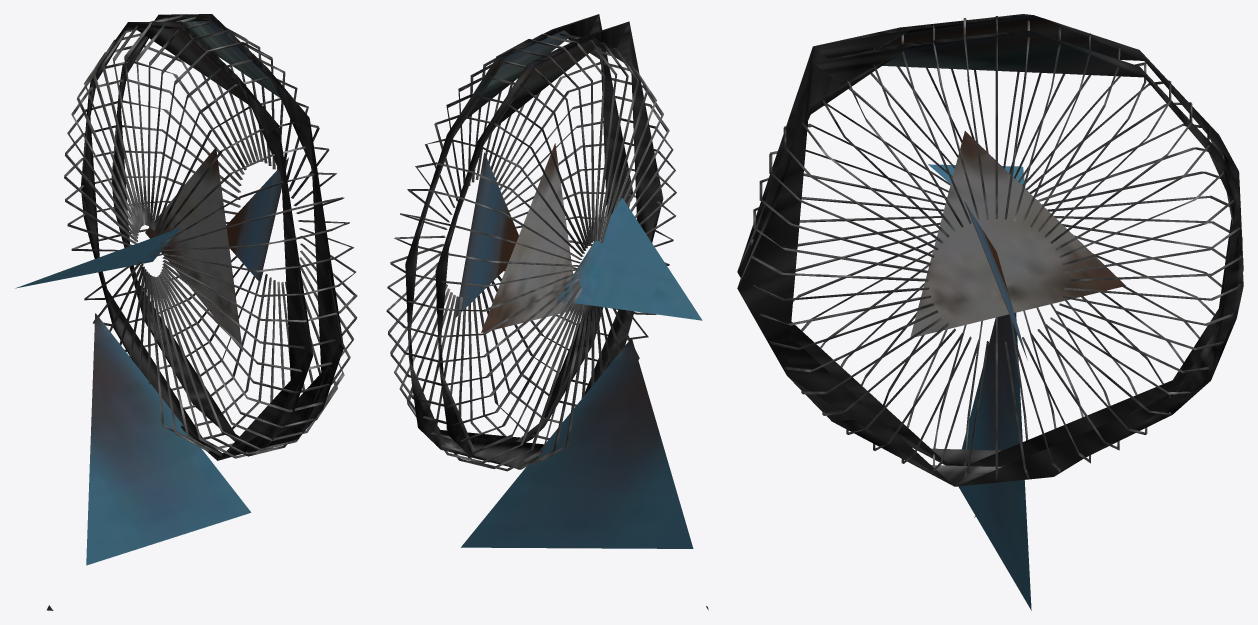
The model's file is table_fan.glb.
3 renders of one model, left to right at view 1: azimuth 30°, elevation 25°; view 2: azimuth 150°, elevation 25°; view 3: azimuth 270°, elevation 25°, orthographic. The views are drawn at different scales.
Parts seen in each view (by area): view 1: table_fan; view 2: table_fan; view 3: table_fan.
Boxes of the visible parts, x1,y1,x2,y2 form: table_fan: [15, 14, 357, 610]; table_fan: [386, 14, 708, 610]; table_fan: [737, 14, 1243, 610].
Bounding box in the file's own units: 0.2556 × 0.5242 × 0.4101.
1 material, 1 textured.
